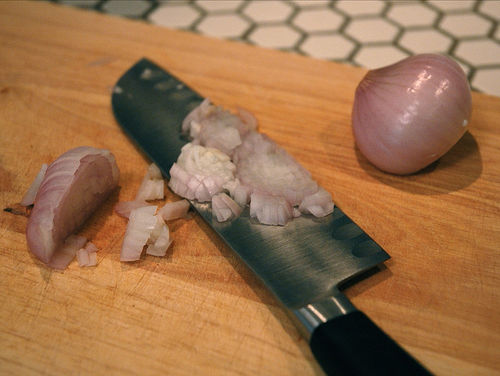onion: (351, 52, 475, 176)
